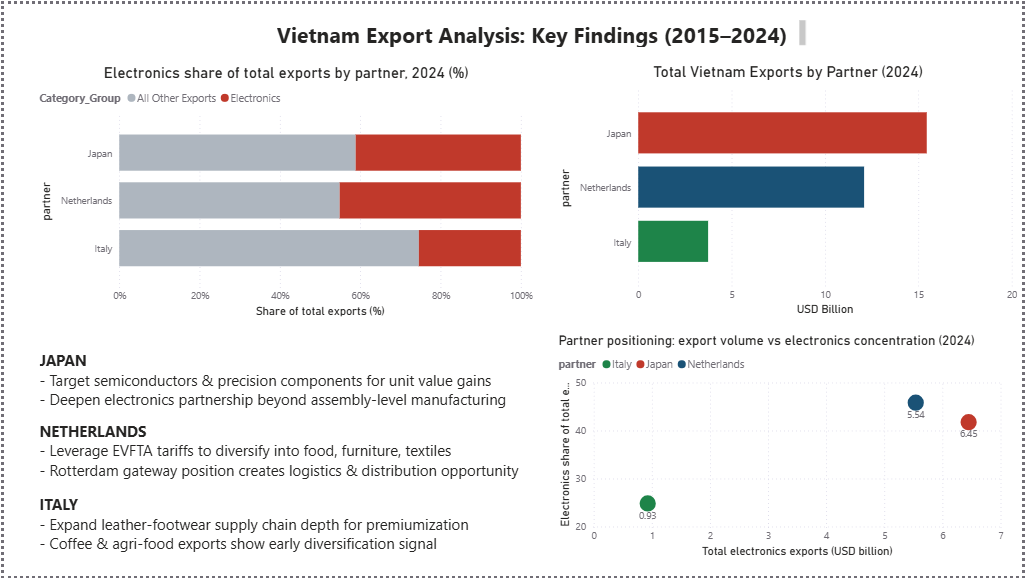

Layout of this report page (visuals, bound fields, positions):
{"tool":"powerbi","page":{"name":"Key Findings","canvas":[1280,720],"ordinal":4},"visuals":[{"type":"textbox","box":[39.1,429.9,629.4,88.4],"z":0},{"type":"textbox","box":[39.1,518.3,629.4,92.6],"z":1000},{"type":"textbox","box":[39.1,610.9,596.5,88.4],"z":2000},{"type":"clusteredBarChart","title":"Total Vietnam Exports by Partner (2024)","fields":{"Category":["clean_combined.partner"],"Y":["Sum(clean_combined.trade_value_billion)"]},"box":[692.5,73.6,586.8,322.6],"z":3000},{"type":"hundredPercentStackedBarChart","title":"Electronics share of total exports by partner, 2024 (%)","fields":{"Category":["clean_combined.partner","clean_combined.year"],"Y":["Sum(clean_combined.trade_value_billion)"],"Series":["clean_combined.Category_Group"]},"box":[39.6,75.5,630.2,322.6],"z":4000},{"type":"textbox","box":[337.7,15.1,675.5,43.4],"z":5000},{"type":"scatterChart","title":"Partner positioning: export volume vs electronics concentration (2024)","fields":{"X":["Sum(clean_combined.trade_value_billion)"],"Y":["Avg(clean_combined.share_of_total_pct)"],"Category":["clean_combined.trade_value_billion"],"Series":["clean_combined.partner"]},"box":[692.5,413.2,569.8,286.8],"z":6000}]}

Visuals, with their boxes in screenshot pixels (x1, y1, x2, y2), scaled from the page's 1280x720 canvas onto the 1025x578 screenshot:
textbox: {"left": 31, "top": 345, "right": 535, "bottom": 416}
textbox: {"left": 31, "top": 416, "right": 535, "bottom": 490}
textbox: {"left": 31, "top": 490, "right": 509, "bottom": 561}
"Total Vietnam Exports by Partner (2024)" clusteredBarChart: {"left": 555, "top": 59, "right": 1024, "bottom": 318}
"Electronics share of total exports by partner, 2024 (%)" hundredPercentStackedBarChart: {"left": 32, "top": 61, "right": 536, "bottom": 320}
textbox: {"left": 270, "top": 12, "right": 811, "bottom": 47}
"Partner positioning: export volume vs electronics concentration (2024)" scatterChart: {"left": 555, "top": 332, "right": 1011, "bottom": 562}
